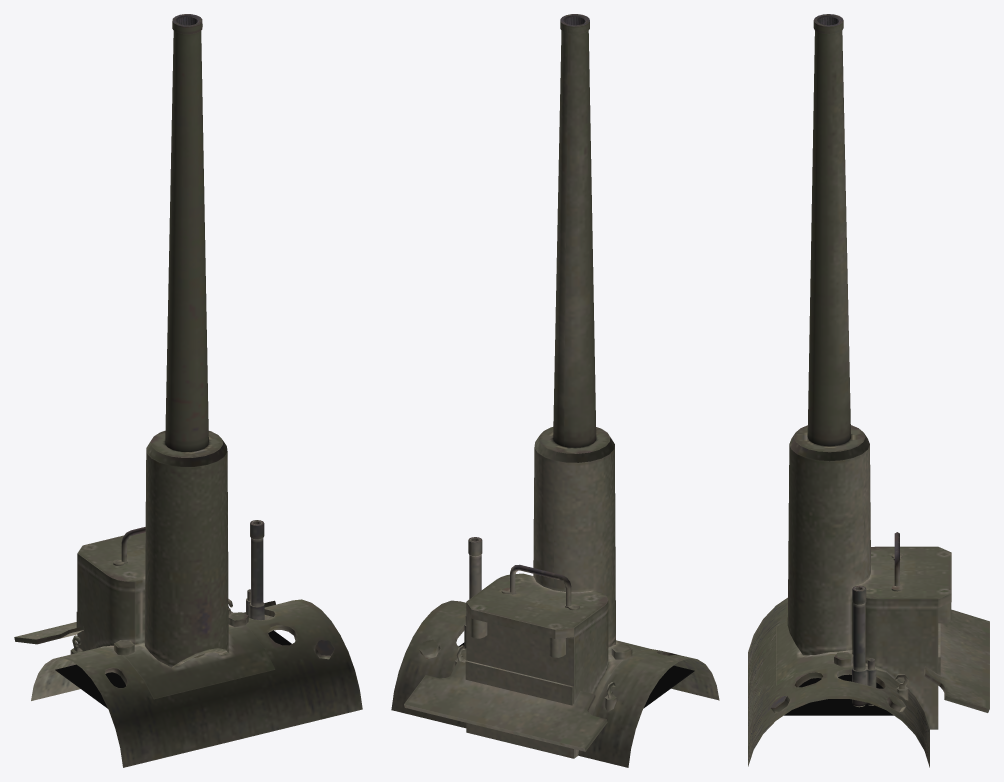
File: Gun_01.glb
3 views of the same model, side by side, from view 1: azimuth 30°, elevation 25°; view 2: azimuth 150°, elevation 25°; view 3: azimuth 270°, elevation 25° (orthographic).
Parts seen in each view (by area): view 1: set_0_group_0; view 2: set_0_group_0; view 3: set_0_group_0.
Part boxes in pixels (<box>): set_0_group_0: <box>14,14,362,767</box>; set_0_group_0: <box>391,14,719,767</box>; set_0_group_0: <box>748,14,989,767</box>.
Size of the model in its own units: 0.4925 by 1.36 by 0.4363.
Materials: 1 (1 with a texture image).
